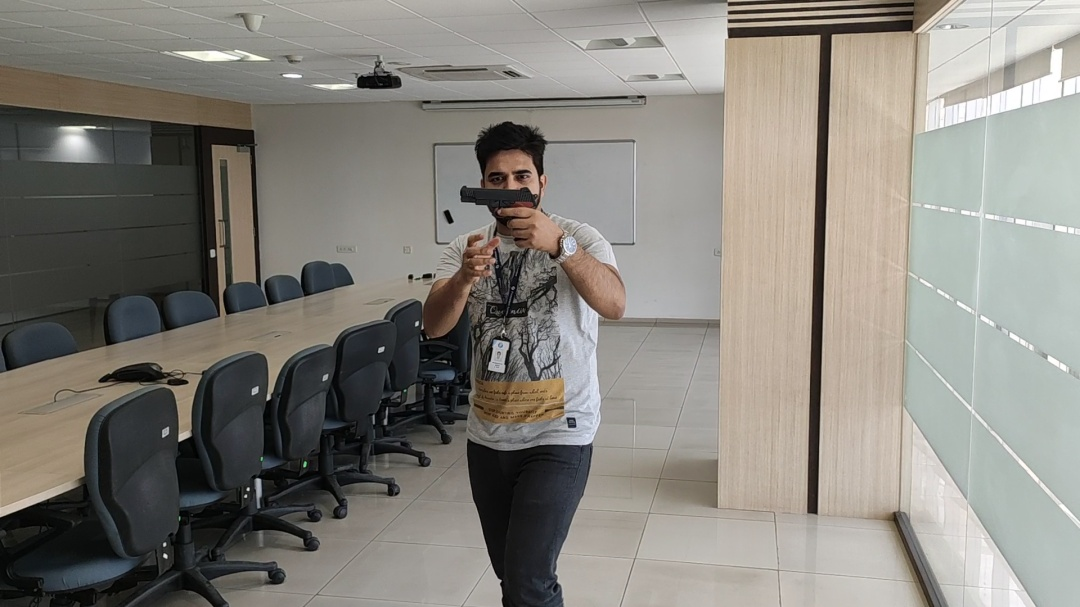gun: (458, 181, 537, 216)
